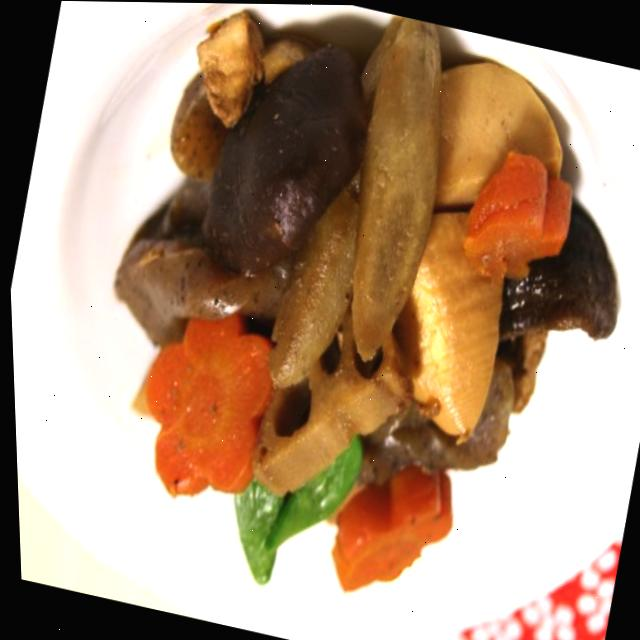鸡肉料理 含炸鸡: (41, 0, 640, 640)
